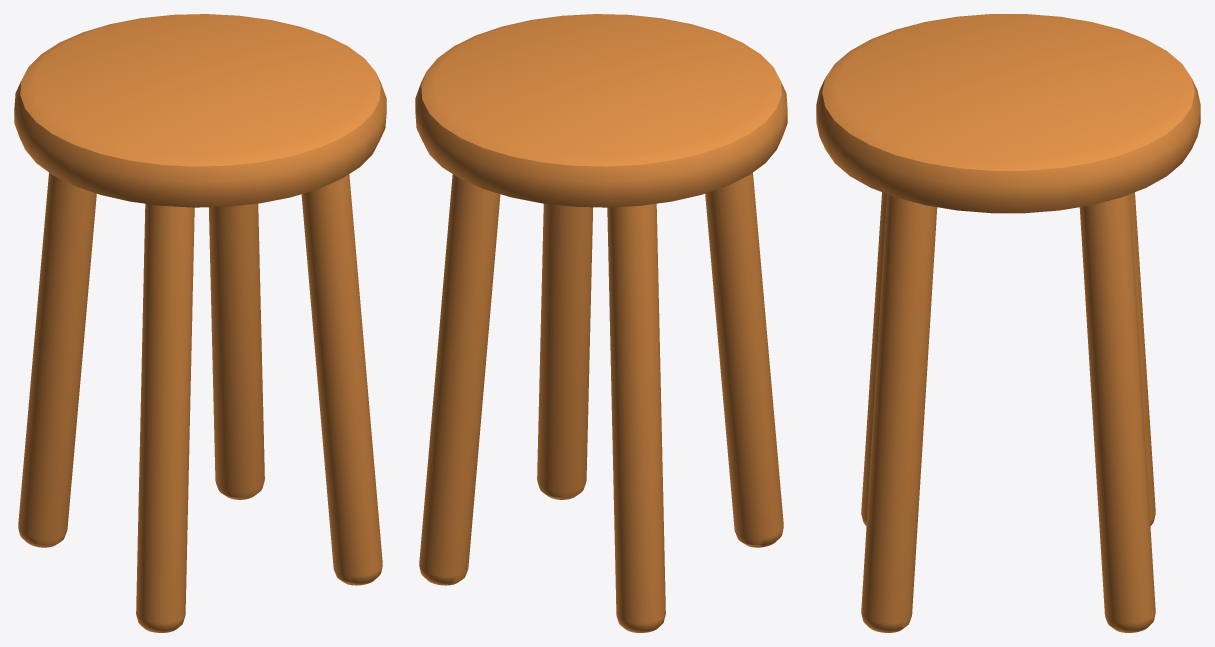
The model's file is wooden_stool.fbx.
The picture shows the model from 3 angles, left to right: view 1: azimuth 30°, elevation 25°; view 2: azimuth 150°, elevation 25°; view 3: azimuth 270°, elevation 25°; orthographic projection. The views are drawn at different scales.
Parts seen in each view (by area): view 1: stool; view 2: stool; view 3: stool.
Boxes of the visible parts, x1,y1,x2,y2 form: stool: (14, 14, 386, 632); stool: (415, 14, 787, 632); stool: (816, 14, 1200, 632).
Bounding box in the file's own units: 37.37 × 52.97 × 37.53.
